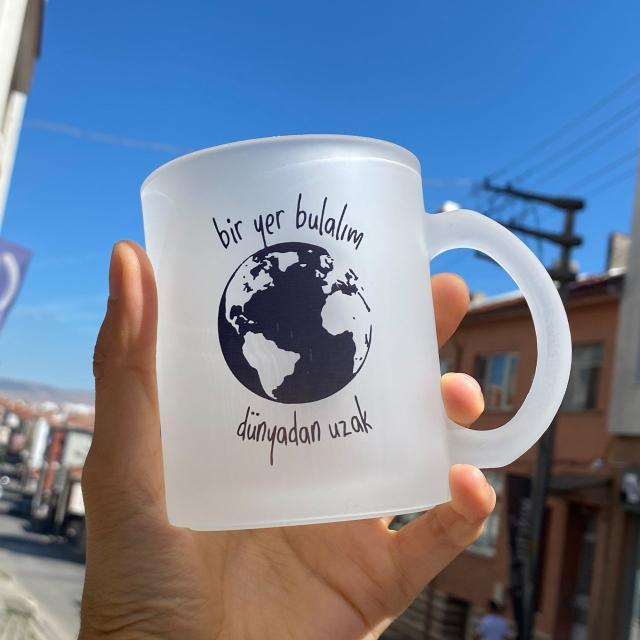Coffee Mug: (138, 134, 574, 533)
